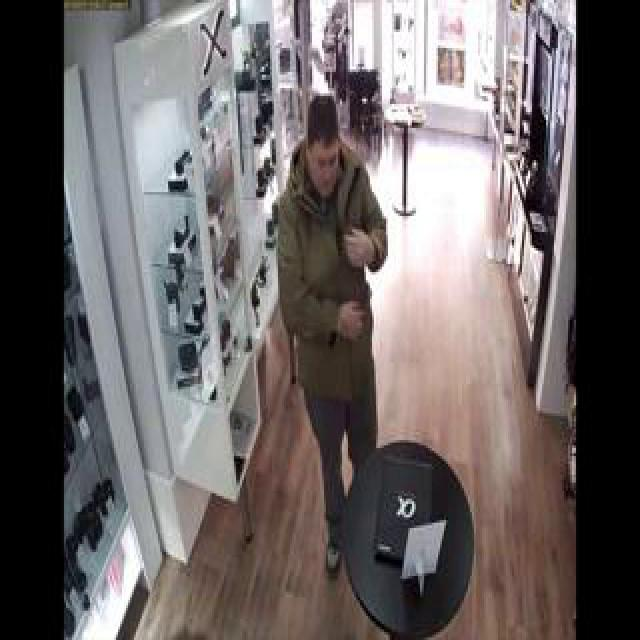shoplifting: (208, 1, 582, 640)
